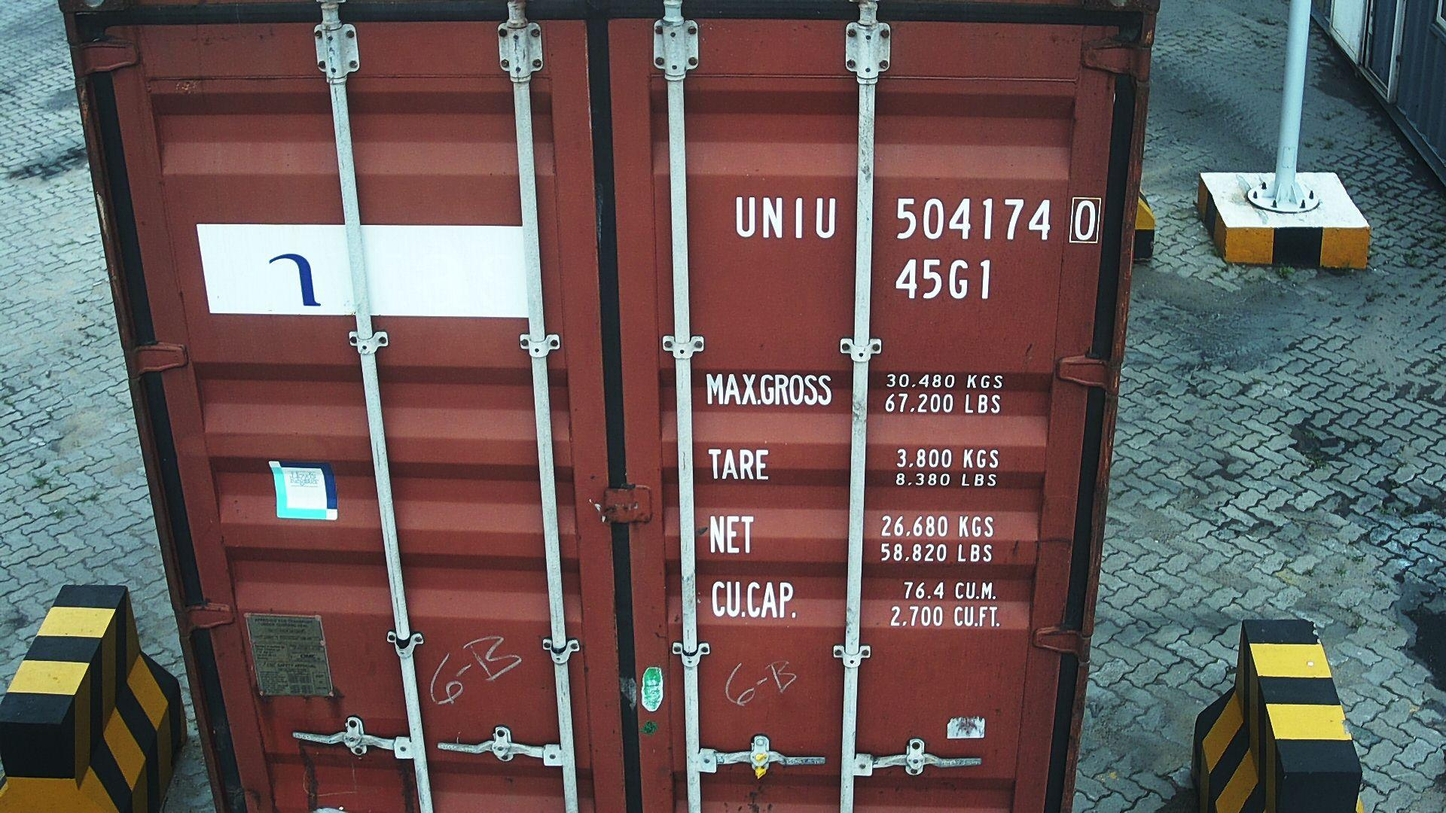container-numbers: (729, 192, 1104, 249), (893, 254, 998, 304)
